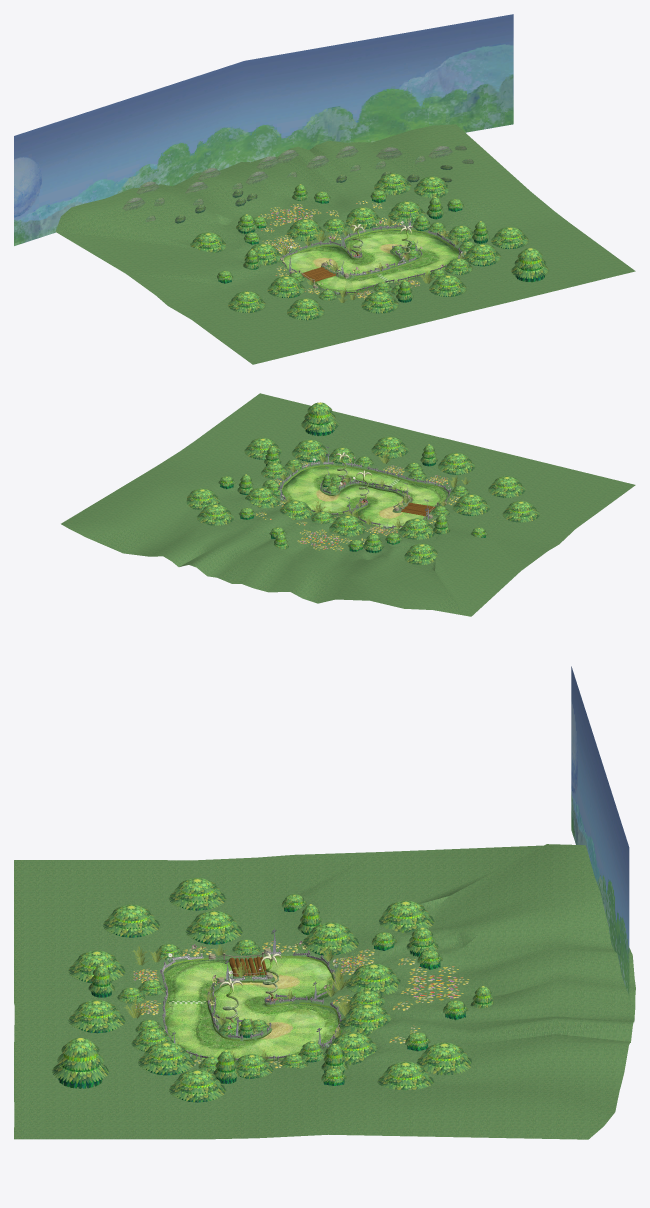
File: hand_painted_garden-v2.glb
3 renders of one model, top to bottom at view 1: azimuth 30°, elevation 25°; view 2: azimuth 150°, elevation 25°; view 3: azimuth 270°, elevation 25°, orthographic. The views are drawn at different scales.
Parts seen in each view (by area): view 1: FrontSide_7, FrontSide_17, FrontSide_10, FrontSide_3, FrontSide_19, FrontSide_9, FrontSide_4, FrontSide_2, FrontSide_20, FrontSide_12, FrontSide_6, FrontSide_21; view 2: FrontSide_7, FrontSide_10, FrontSide_3, FrontSide_19, FrontSide_4, FrontSide_2, FrontSide_20, FrontSide_21, FrontSide_23; view 3: FrontSide_7, FrontSide_10, FrontSide_3, FrontSide_17, FrontSide_19, FrontSide_2, FrontSide_4, FrontSide_20, FrontSide_23.
Boxes of the visible parts, <box> form: FrontSide_7: <box>55,124,635,364</box>; FrontSide_17: <box>14,14,513,245</box>; FrontSide_10: <box>190,173,548,320</box>; FrontSide_3: <box>283,230,459,294</box>; FrontSide_19: <box>198,182,544,320</box>; FrontSide_9: <box>122,146,453,210</box>; FrontSide_4: <box>282,224,461,294</box>; FrontSide_2: <box>279,218,463,302</box>; FrontSide_20: <box>258,200,465,297</box>; FrontSide_12: <box>174,165,452,223</box>; FrontSide_6: <box>145,145,473,221</box>; FrontSide_21: <box>283,228,460,278</box>; FrontSide_7: <box>61,393,635,616</box>; FrontSide_10: <box>186,402,539,565</box>; FrontSide_3: <box>282,466,447,528</box>; FrontSide_19: <box>191,412,531,559</box>; FrontSide_4: <box>281,461,450,528</box>; FrontSide_2: <box>279,451,470,528</box>; FrontSide_20: <box>255,461,460,550</box>; FrontSide_21: <box>282,465,448,513</box>; FrontSide_23: <box>300,465,447,548</box>; FrontSide_7: <box>14,844,635,1139</box>; FrontSide_10: <box>52,878,493,1102</box>; FrontSide_3: <box>163,957,338,1061</box>; FrontSide_17: <box>571,666,629,997</box>; FrontSide_19: <box>58,889,491,1102</box>; FrontSide_2: <box>123,944,358,1061</box>; FrontSide_4: <box>160,950,341,1060</box>; FrontSide_20: <box>138,941,469,1068</box>; FrontSide_23: <box>133,954,457,1013</box>.
Size of what is drawn, in the model's own units: 420 by 92.28 by 303.
Materials: 24 (23 with a texture image).
